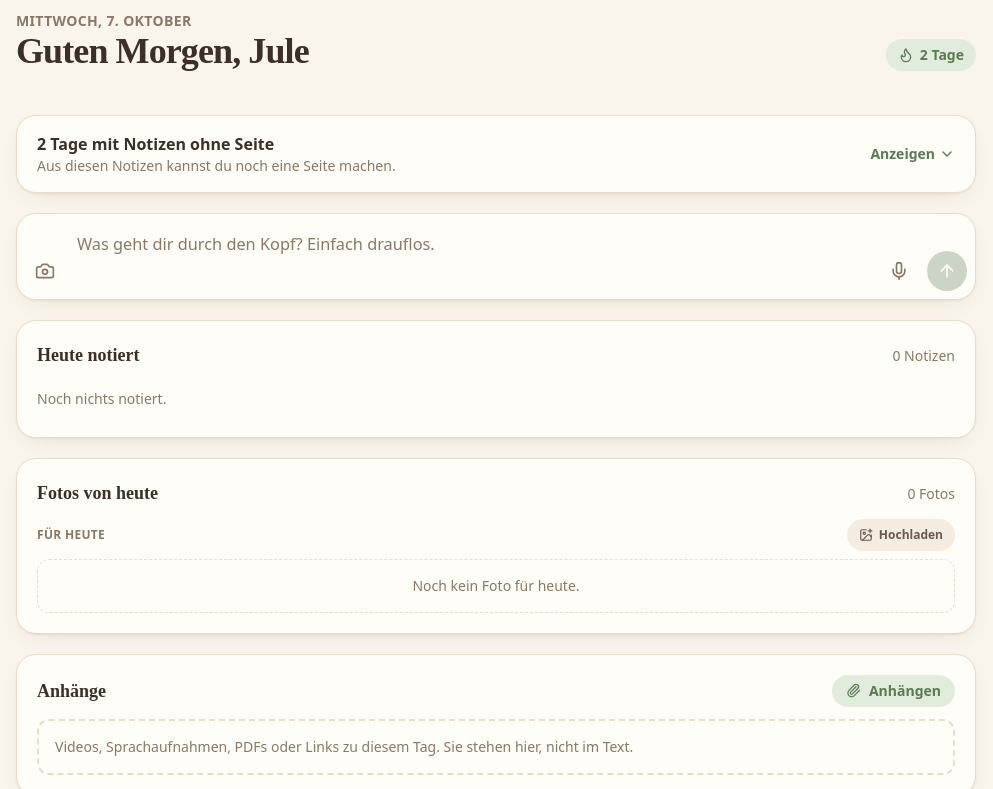
Scenario: days with notes and no page › says how many, folded away, and lists them with a way to write each up
Click the button that starts with "2 Tage mit Notizen ohne Seite": [156, 144] box x1=37 y1=132 x2=955 y2=176
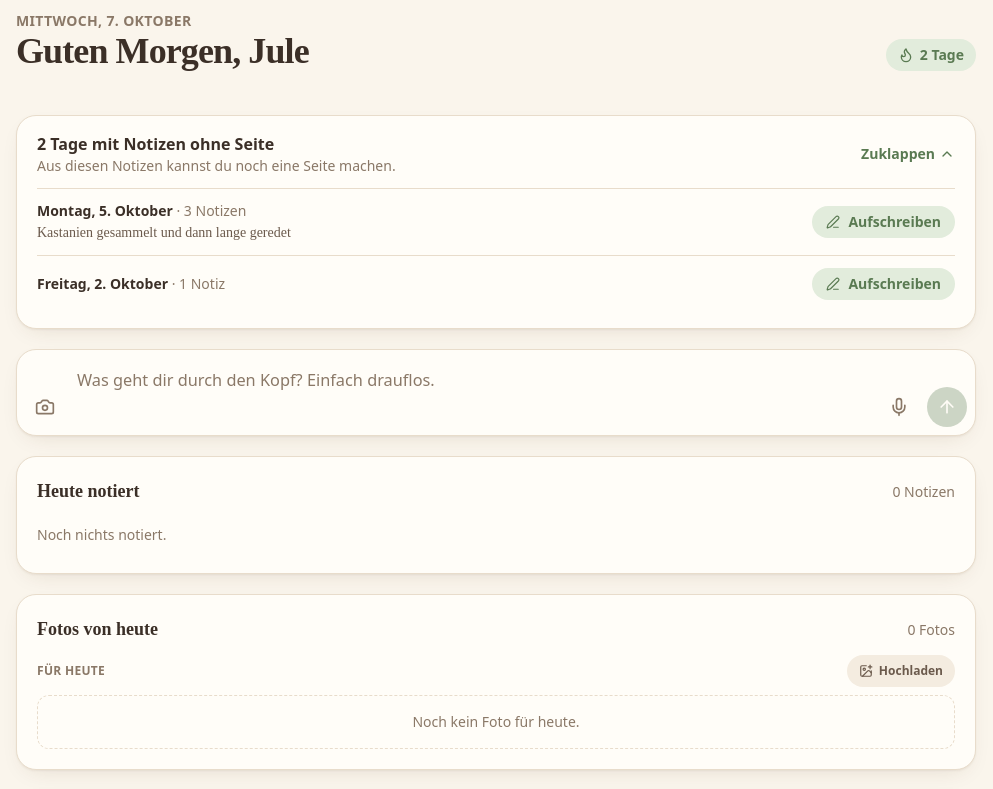
Now the list item that starts with "Montag, 5. Oktober" is shown, box x1=37 y1=201 x2=173 y2=220
Now the list item that starts with "Montag, 5. Oktober" shows "3 Notizen", box x1=184 y1=201 x2=246 y2=220
Now the list item that starts with "Montag, 5. Oktober" shows "Kastanien gesammelt und dann lange geredet", box x1=37 y1=225 x2=291 y2=240
